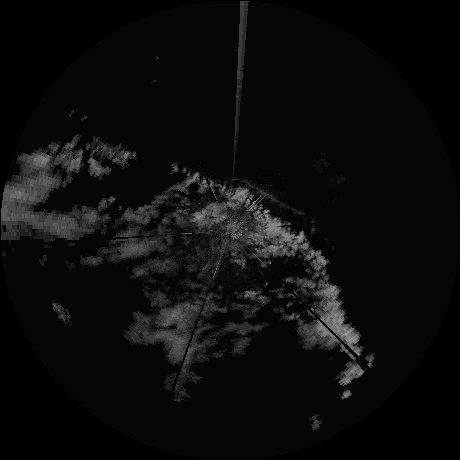frontgust: (234, 177, 306, 218)
